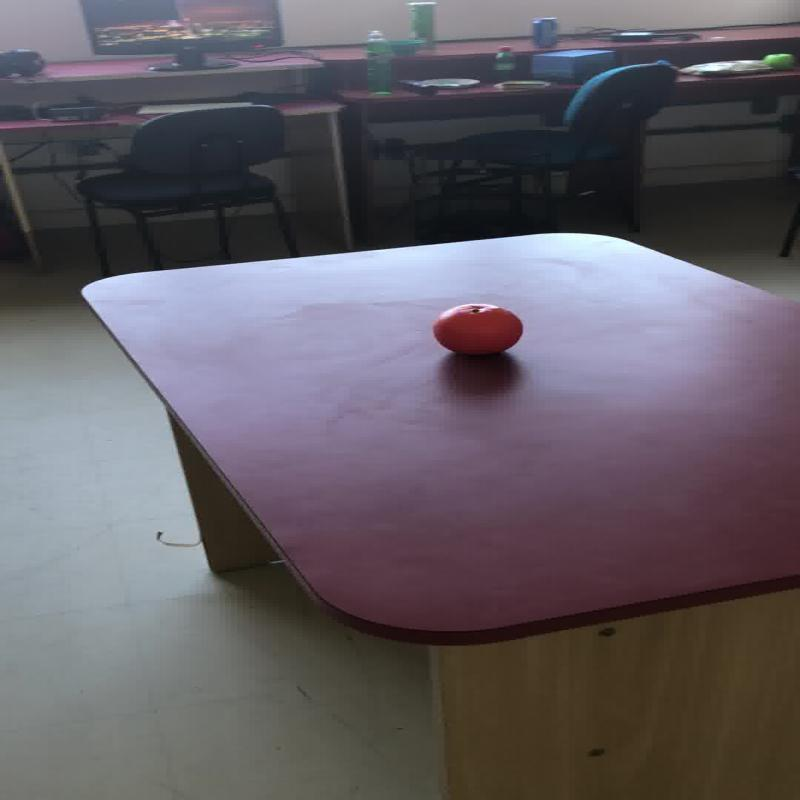orange: (430, 302, 522, 355), (761, 52, 796, 70)
